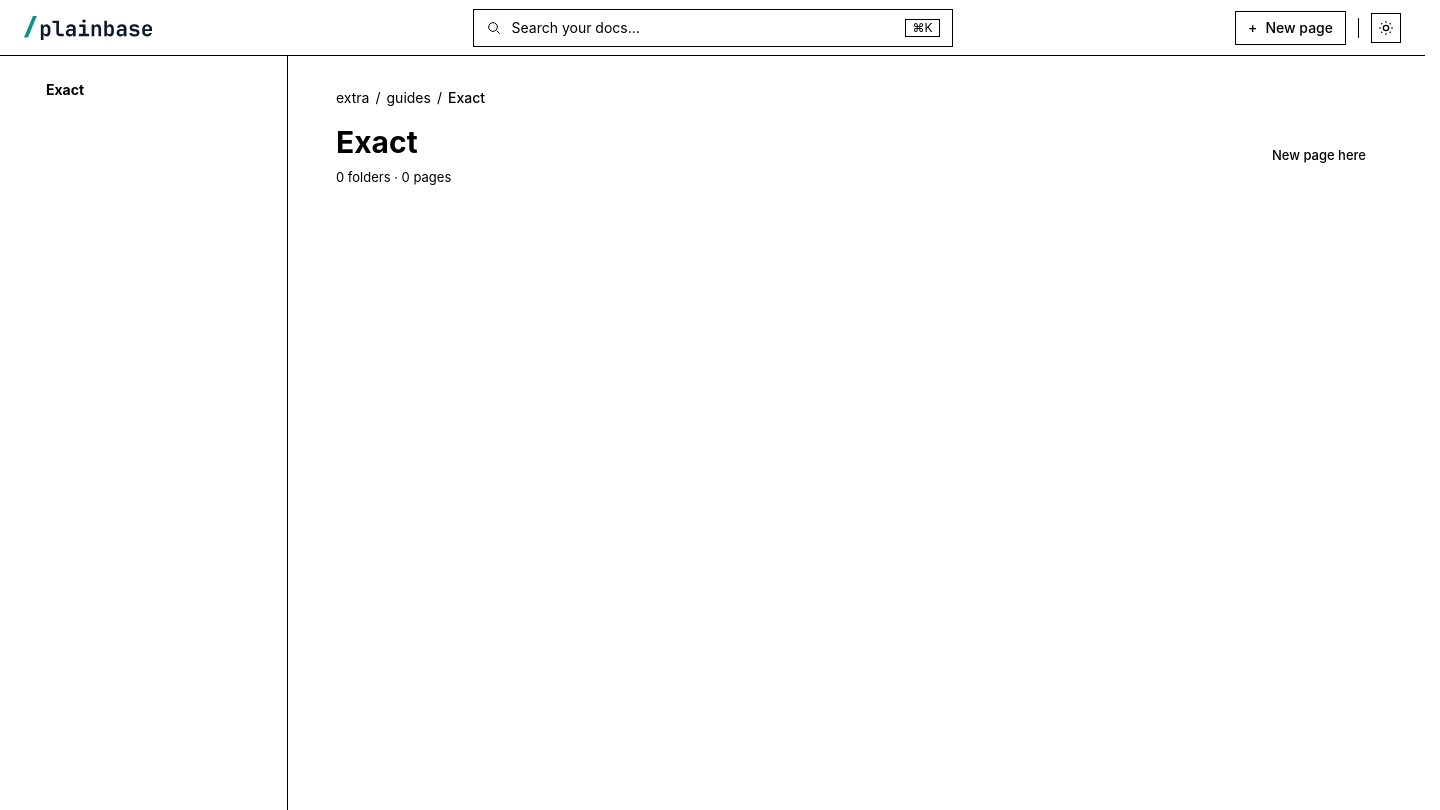
folder landing views (ADR-0003) › starts creation in the exact extra folder 'guides/Deep & Exact'
Expected: the element that starts with "extra" is shown, [336, 88, 1376, 188]
Expected: the text "0 folders · 0 pages" is shown, [336, 168, 451, 188]
Click the link "New page here" at (1319, 155), box [1272, 147, 1366, 163]
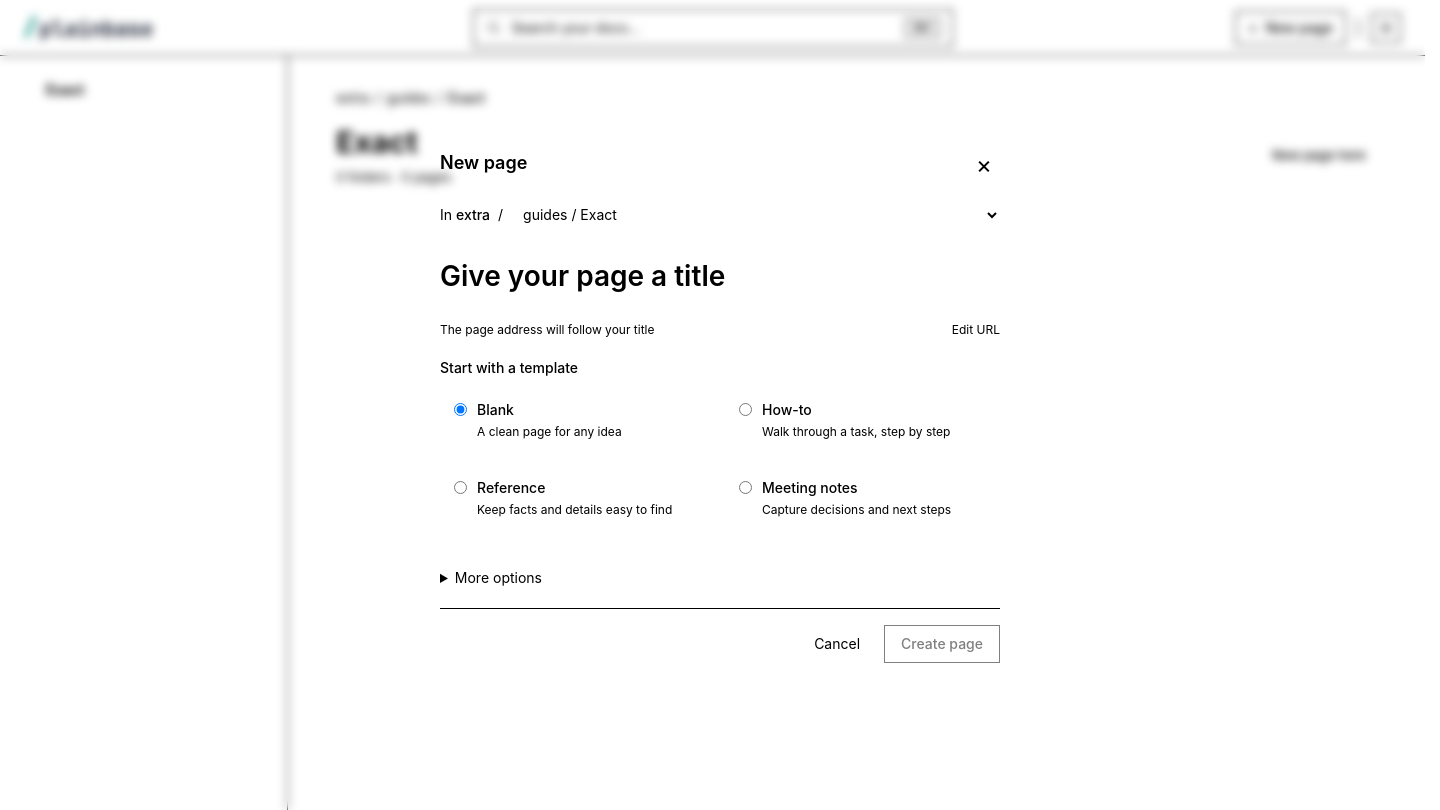
Expected: the link "extra" is shown, [336, 89, 370, 106]
Now the dialog "New page" is shown, box [416, 123, 1024, 687]
